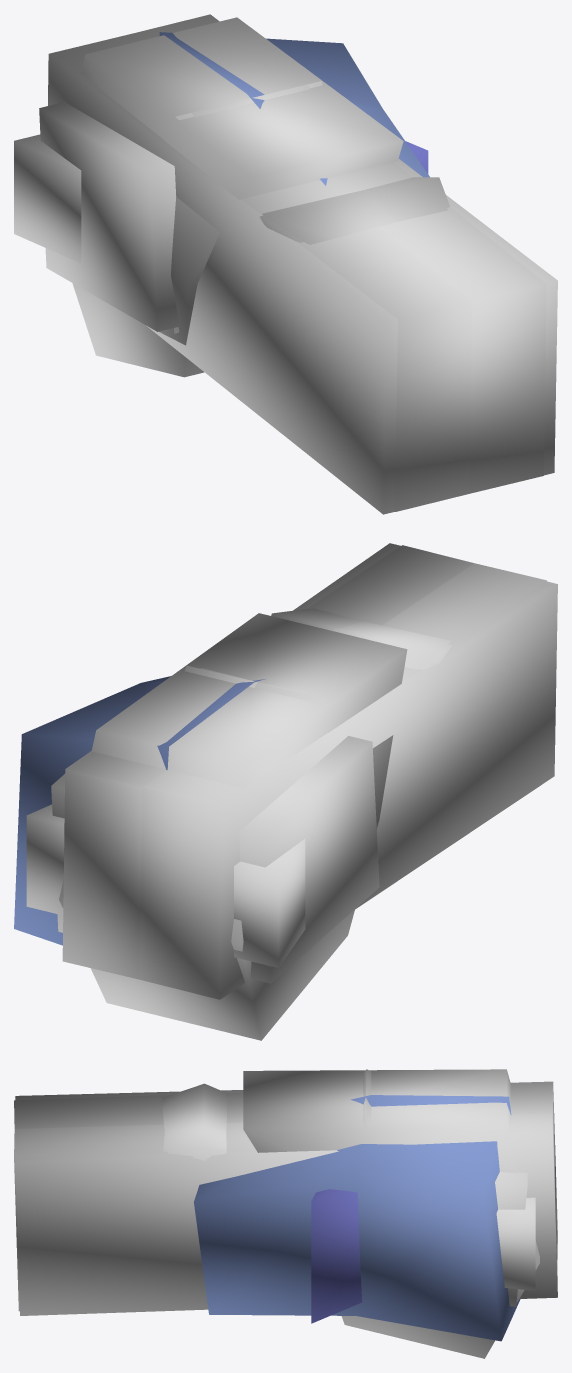
File: biped_rig.dae
3 views of the same model, one above another, from view 1: azimuth 30°, elevation 25°; view 2: azimuth 150°, elevation 25°; view 3: azimuth 270°, elevation 25° (orthographic). The views are drawn at different scales.
Visible parts, largest first — view 1: Thigh_R, Head, Thigh_L, Mid, Shoulder_L, Chest, Shin_L, Shin_R; view 2: Thigh_R, Head, Thigh_L, Mid, Chest, Shoulder_L, Shoulder_R, Shin_L, Shin_R; view 3: Chest, Thigh_L, Head, Thigh_R, Pelvis, Shoulder_R, Shin_L, Shin_R, Mid.
Part boxes in pixels (x1,y1,x2,y2): Thigh_R: [48, 15, 546, 514]; Head: [72, 17, 403, 377]; Thigh_L: [51, 14, 557, 511]; Mid: [39, 102, 179, 331]; Shoulder_L: [14, 134, 81, 263]; Chest: [159, 32, 429, 185]; Shin_L: [262, 177, 449, 244]; Shin_R: [259, 177, 447, 242]; Thigh_R: [68, 545, 557, 999]; Head: [59, 613, 407, 1040]; Thigh_L: [62, 543, 546, 979]; Mid: [51, 736, 379, 983]; Chest: [14, 676, 266, 945]; Shoulder_L: [234, 839, 305, 967]; Shoulder_R: [26, 804, 64, 915]; Shin_L: [271, 609, 450, 669]; Shin_R: [274, 608, 451, 669]; Chest: [194, 1095, 520, 1341]; Thigh_L: [14, 1082, 557, 1315]; Head: [243, 1069, 539, 1358]; Thigh_R: [14, 1081, 557, 1311]; Pelvis: [311, 1189, 362, 1323]; Shoulder_R: [496, 1197, 535, 1290]; Shin_L: [162, 1083, 227, 1160]; Shin_R: [163, 1085, 227, 1152]; Mid: [495, 1172, 527, 1306].
Bounding box in the file's own units: 0.3302 × 0.6642 × 0.3143.
